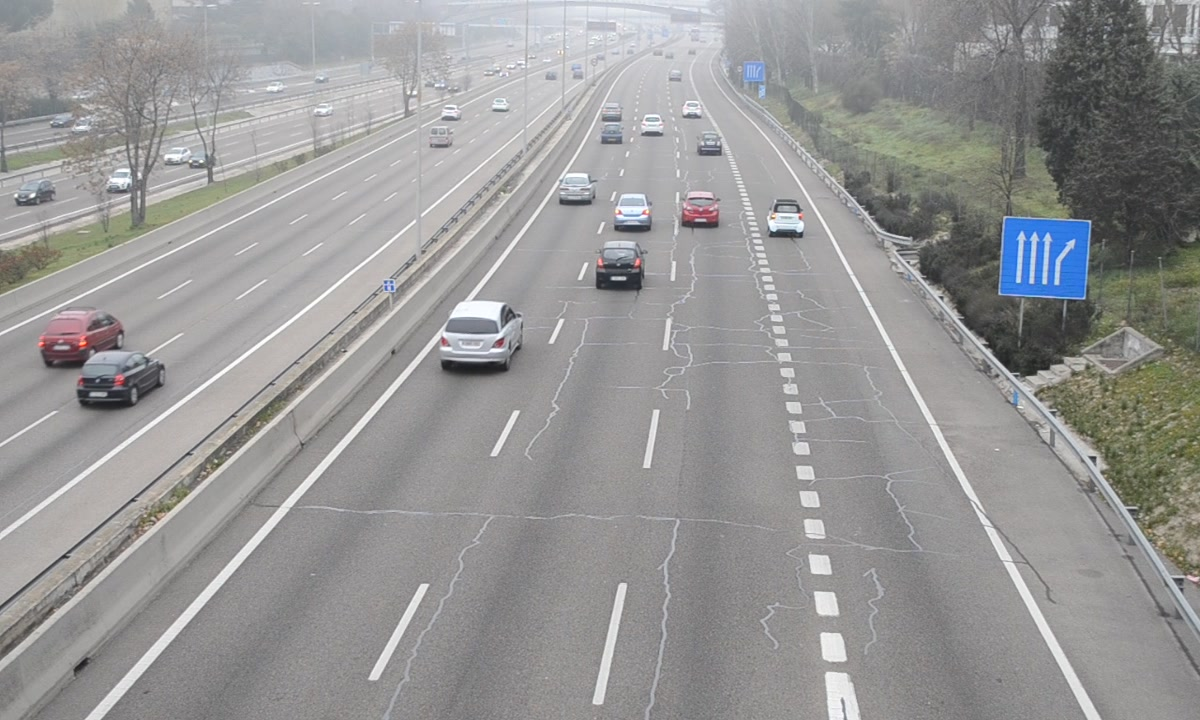car: (437, 301, 523, 367), (595, 241, 644, 286), (682, 190, 722, 230), (768, 198, 805, 239), (614, 193, 652, 232), (557, 172, 598, 206), (697, 132, 724, 157), (639, 112, 665, 137), (599, 123, 624, 146)
